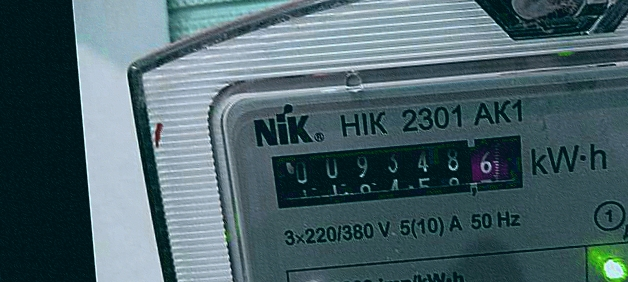0: (323, 155, 340, 180), (293, 158, 308, 185)
3: (384, 149, 400, 176)
4: (414, 147, 430, 175)
6: (476, 148, 495, 176)
8: (444, 145, 461, 174)
9: (353, 153, 370, 180)
screen: (261, 127, 535, 219)
